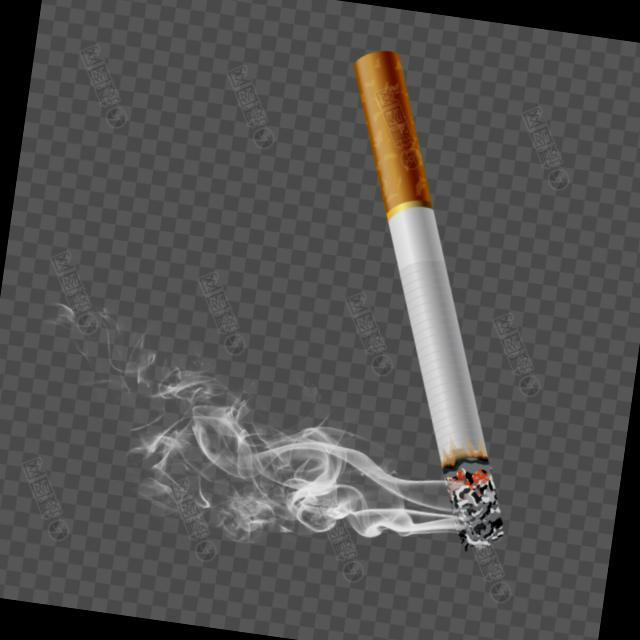cigarette: (269, 42, 575, 556)
